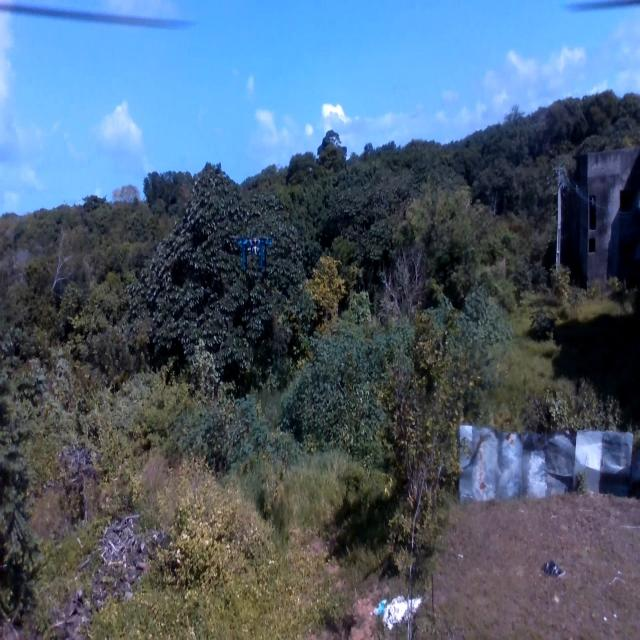-uav-: (223, 214, 292, 306)
